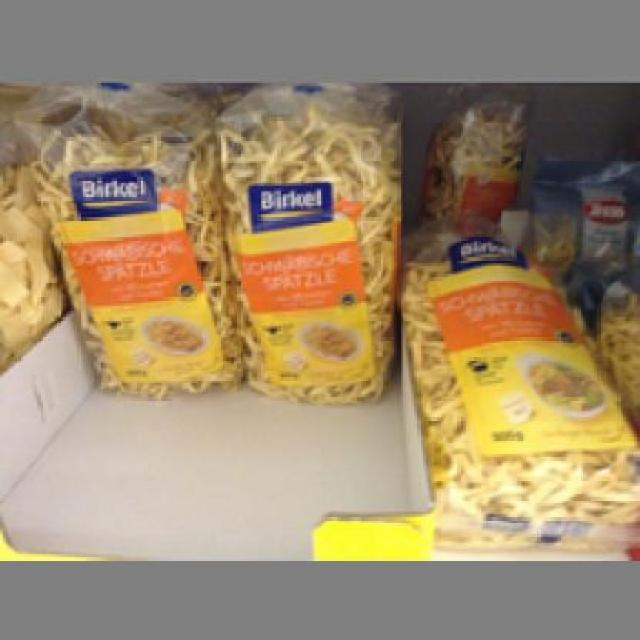Pasta: (400, 206, 637, 543), (11, 82, 238, 392), (211, 85, 400, 398)
